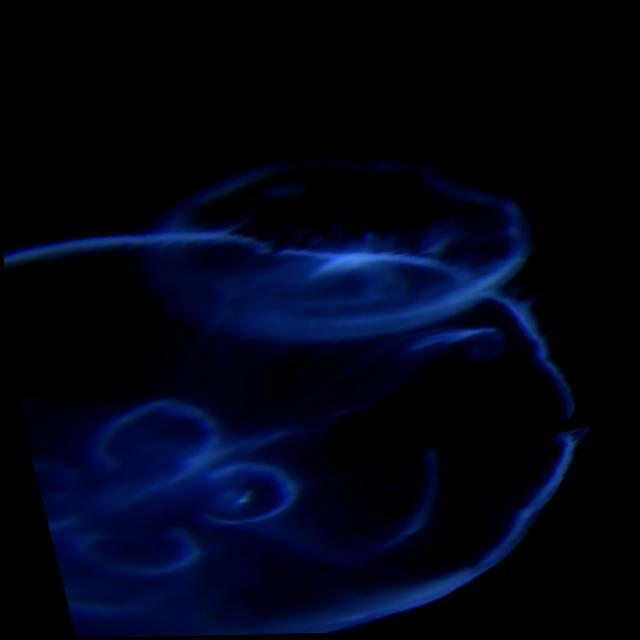Moon-jellyfish: (3, 159, 587, 639)
